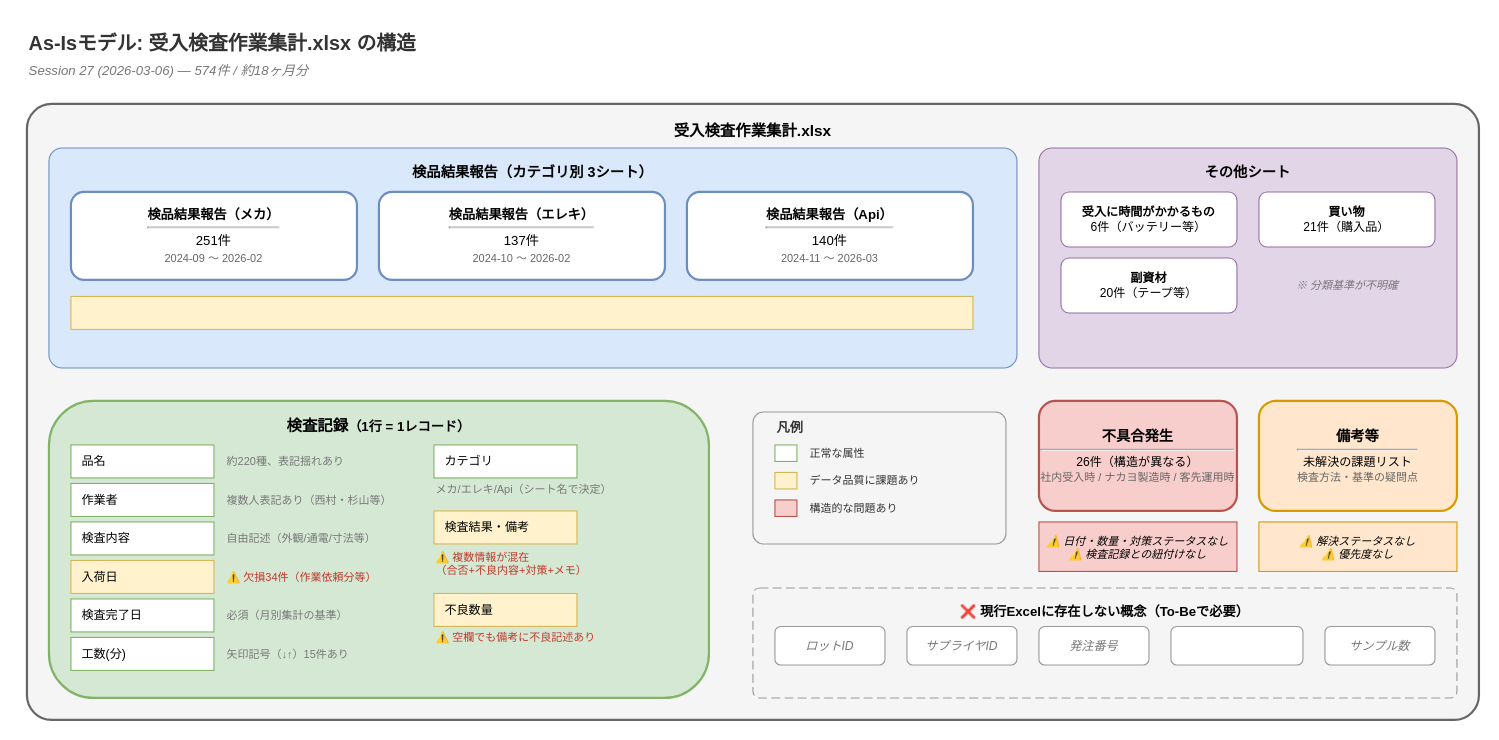
This 1499x740 diagram has some shape labels left out. Each missing label, with the centre of its shape:
"FW/HWバージョン" belongs at (1236,645).
"⚠️ 列構成が微妙に異なる（発注番号: メカのみ / 人工: Api以外）" belongs at (521,312).
